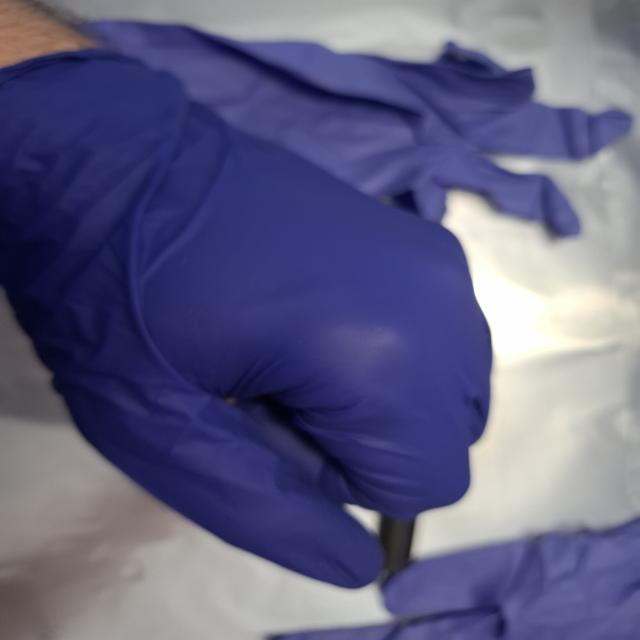glove_on: (0, 41, 499, 593)
